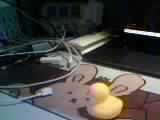duck: (75, 74, 129, 114)
